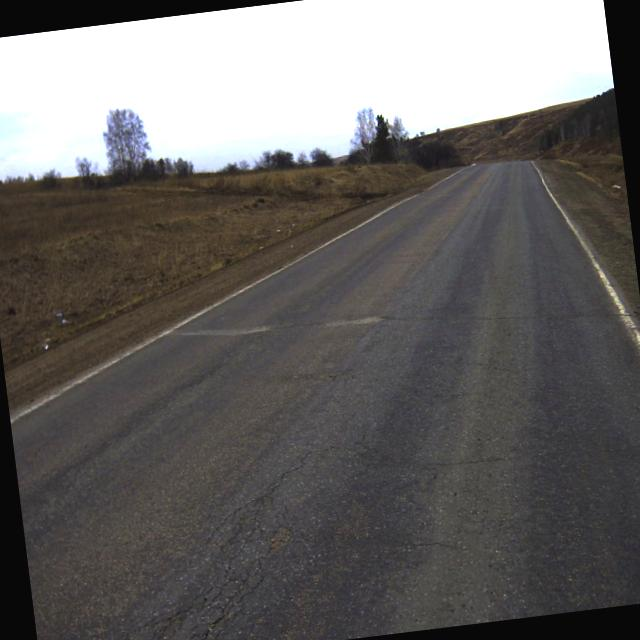road: (11, 160, 640, 640)
